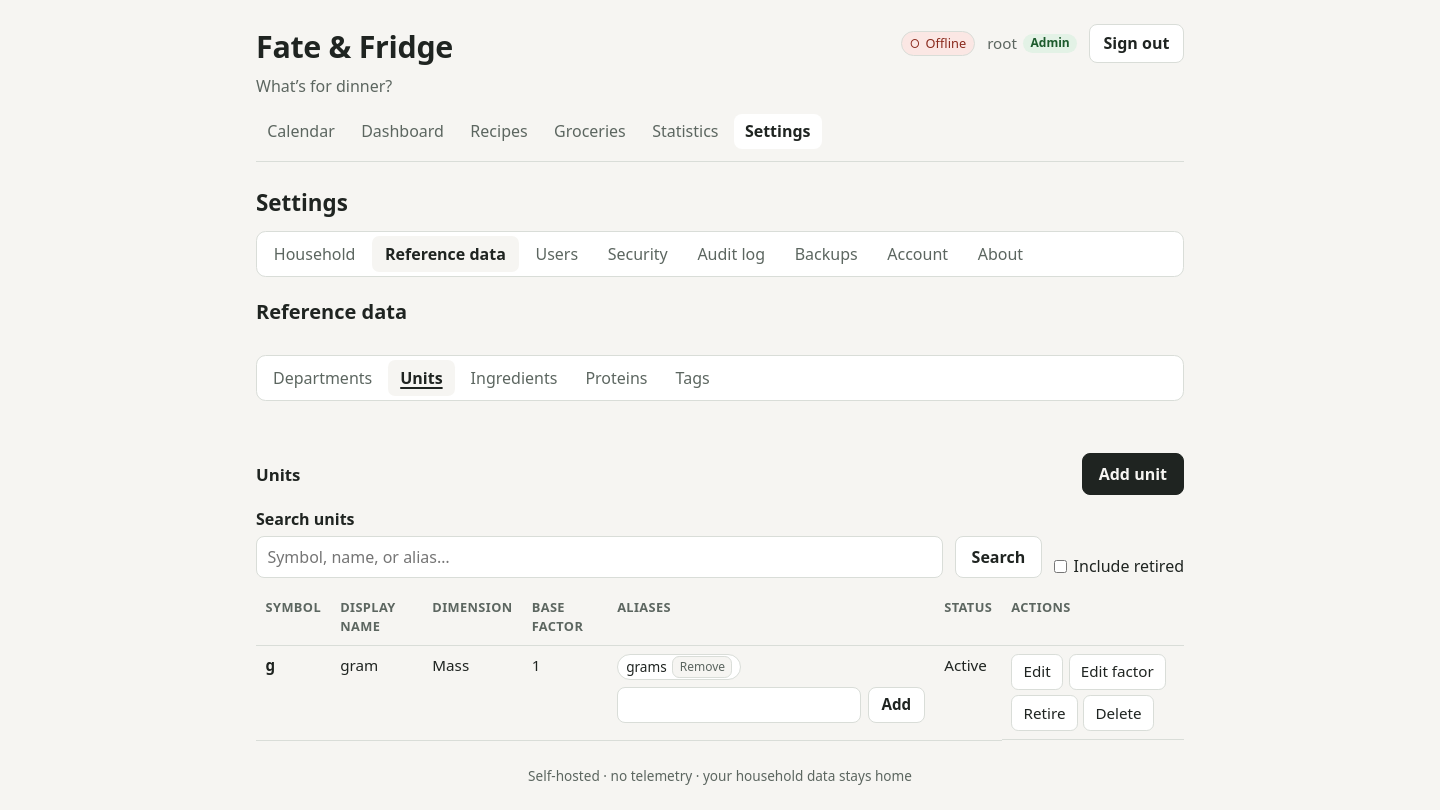
it: units tab › validates the factor locally and surfaces server field errors
The width and height of the screenshot is (1440, 810).
Click the button with aria-label "Edit factor for g". click: (1117, 672)
box: [1068,654,1166,690]
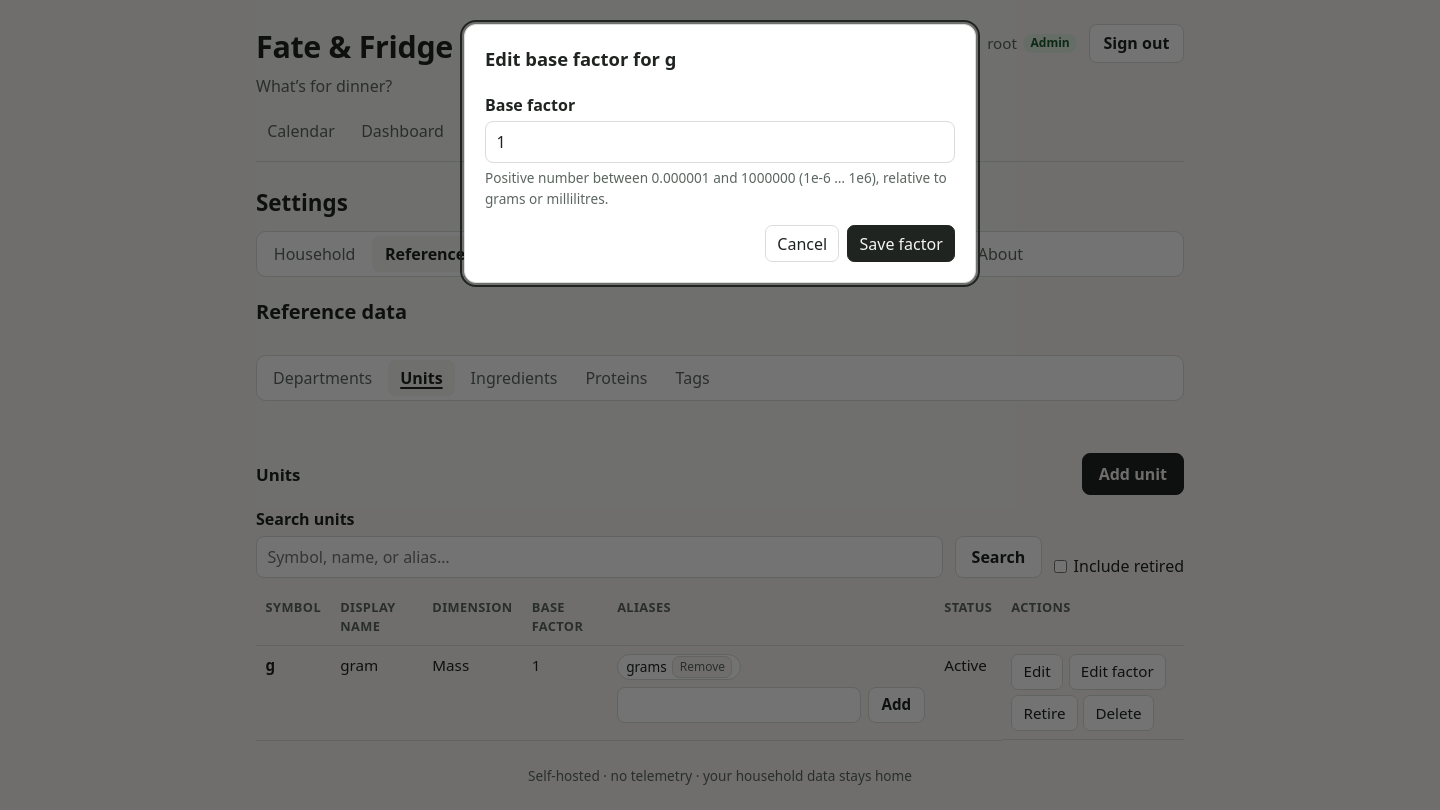
expect the field labelled "Base factor" holds "1": met
Clear the field labelled "Base factor". click: (720, 142)
box: [485,121,955,163]
Click the button "Save factor". click: (901, 244)
box: [847,225,955,262]
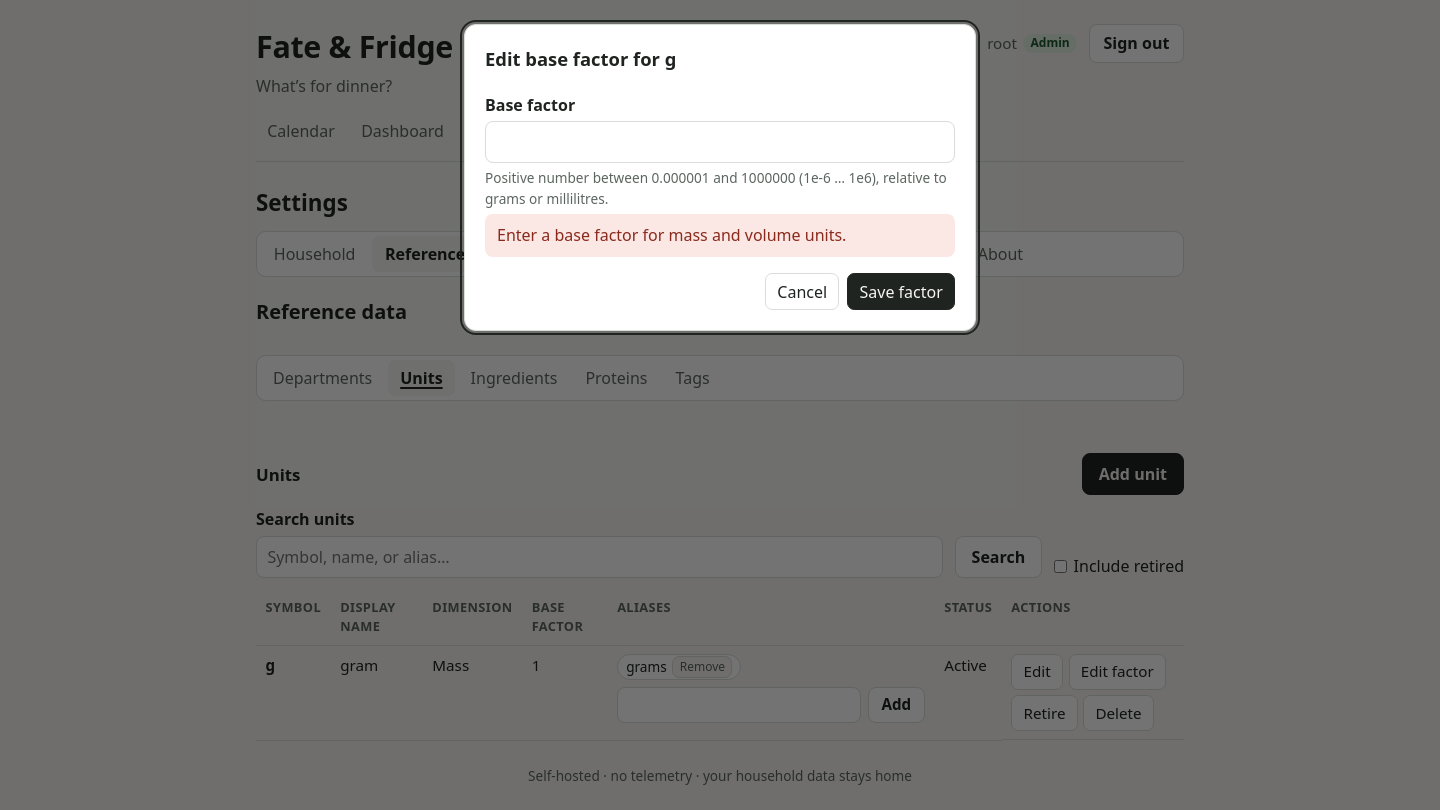
expect the text "Enter a base factor for mass and volume units." is shown: met, box [485,214,955,257]
Type "0" into the field labelled "Base factor". click: (720, 142)
box: [485,121,955,163]
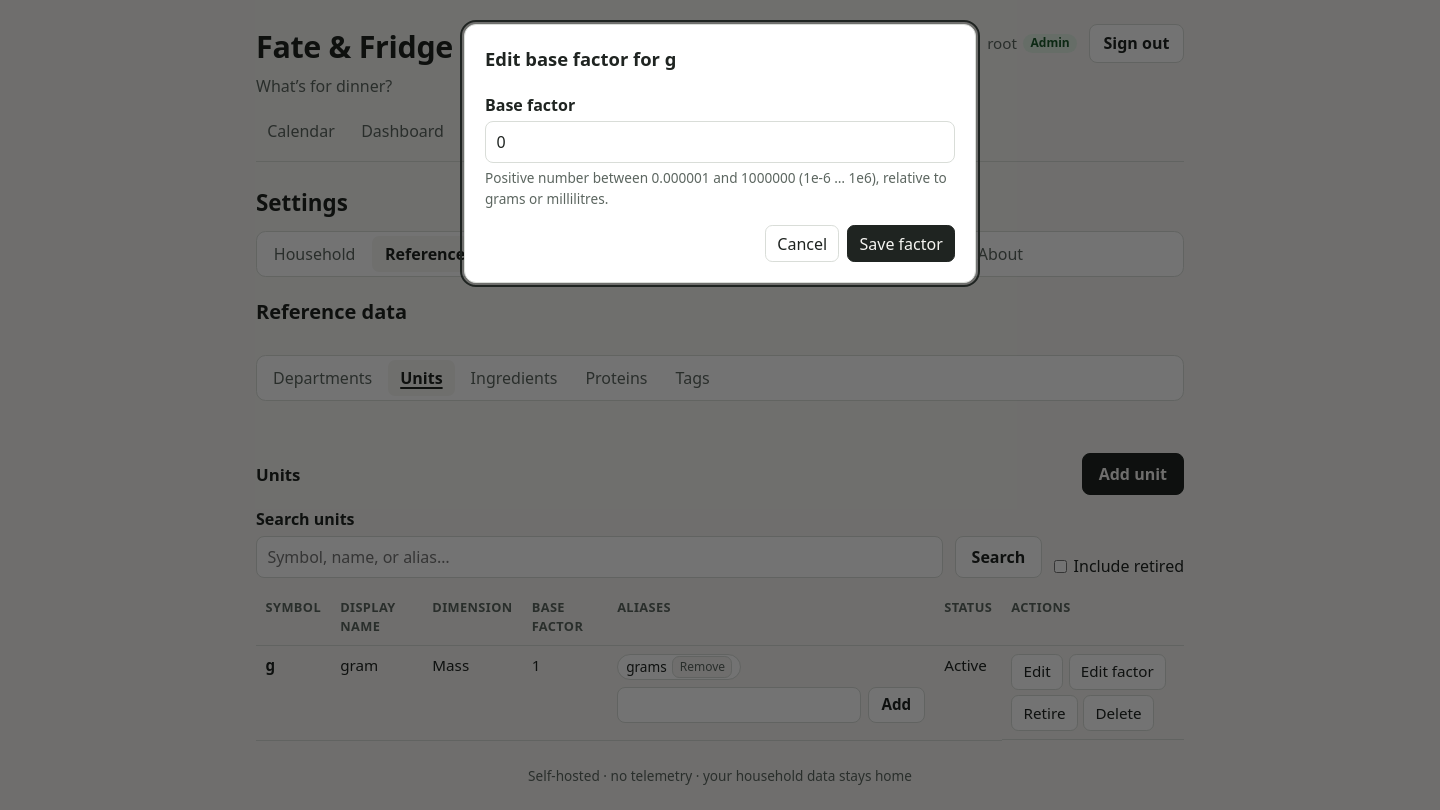
Click the button "Save factor". click: (901, 244)
box: [847,225,955,262]
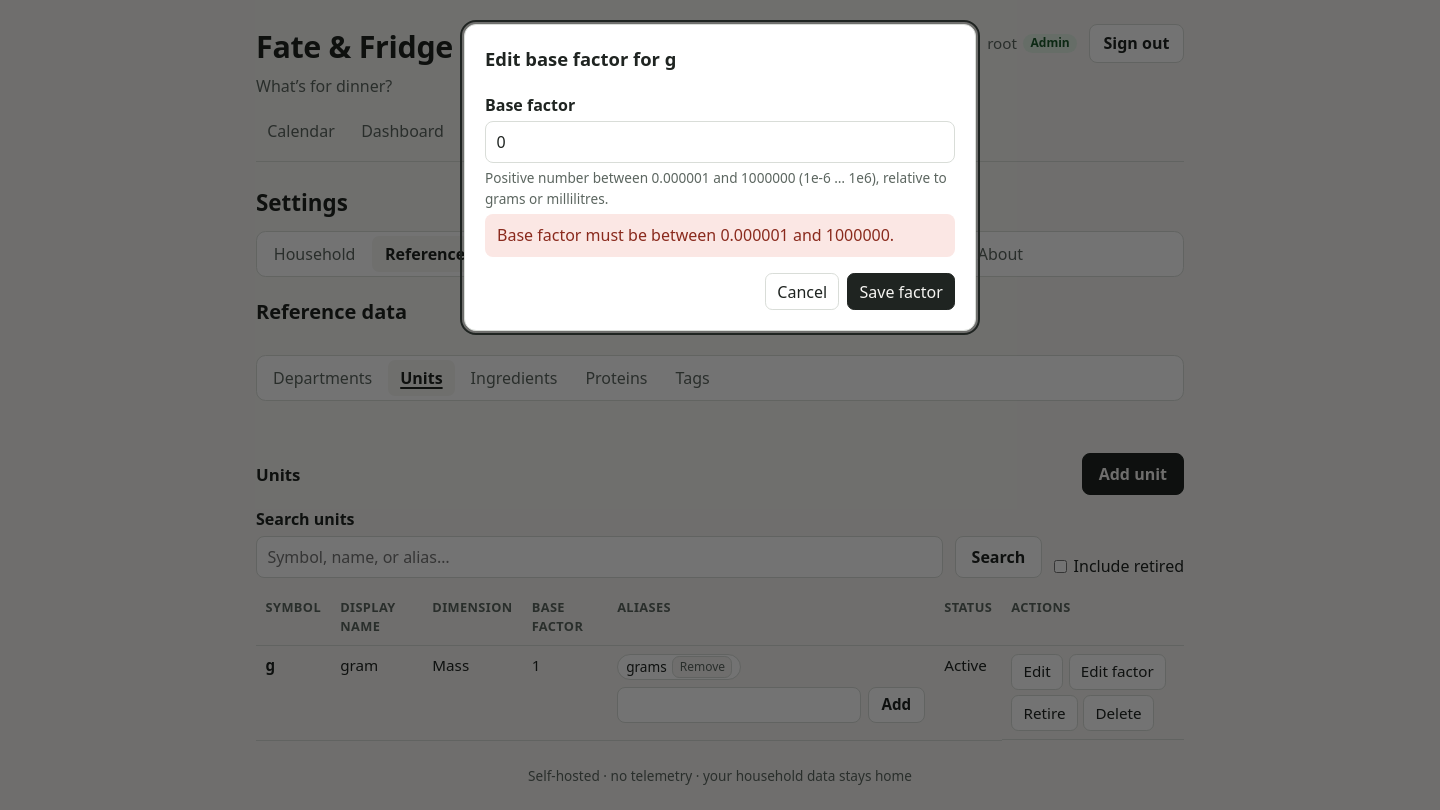
expect the text "Base factor must be between 0.000001 and 1000000." is shown: met, box [485,214,955,257]
Replace the text in the field labelled "Base factor" with "2". click: (720, 142)
box: [485,121,955,163]
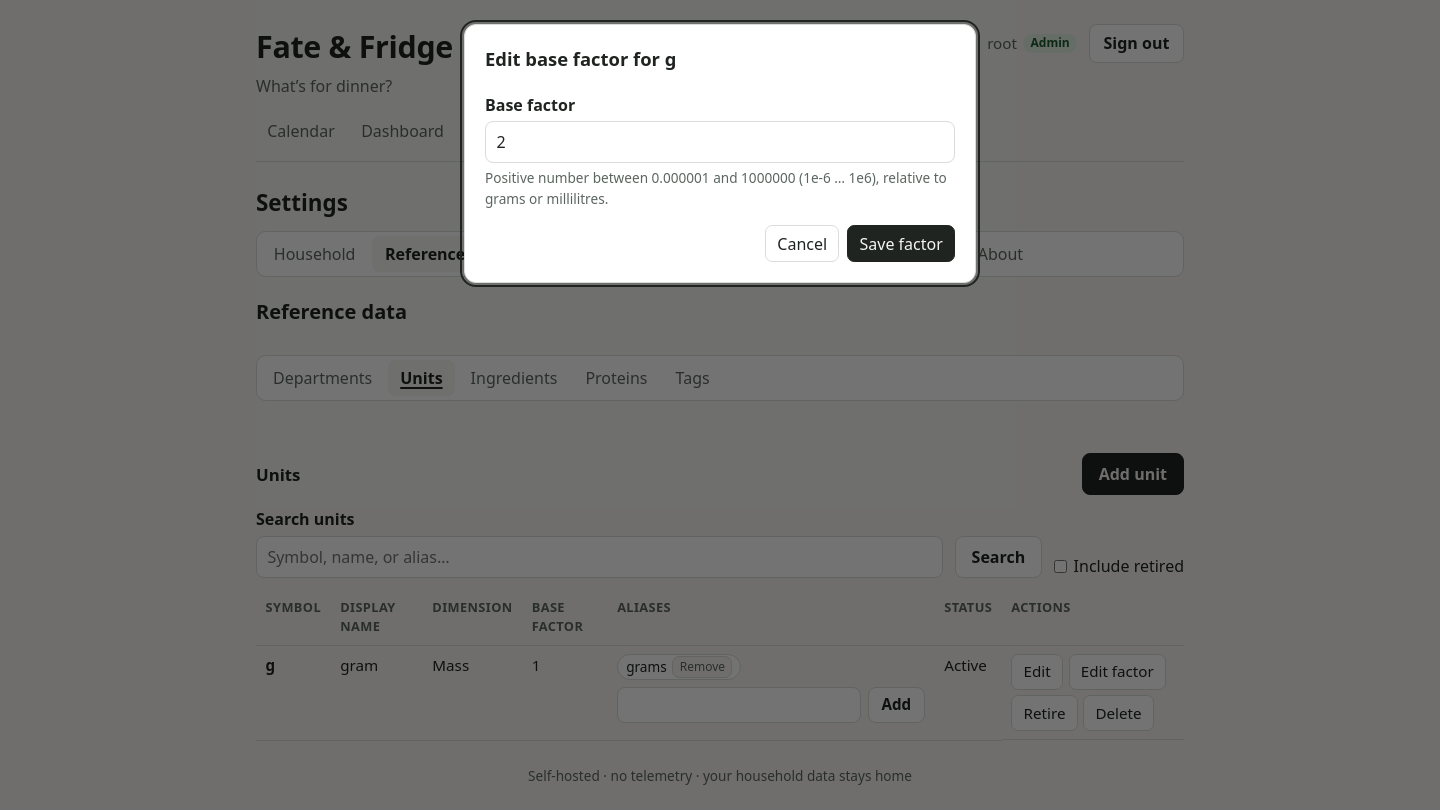
Click the button "Save factor". click: (901, 244)
box: [847,225,955,262]
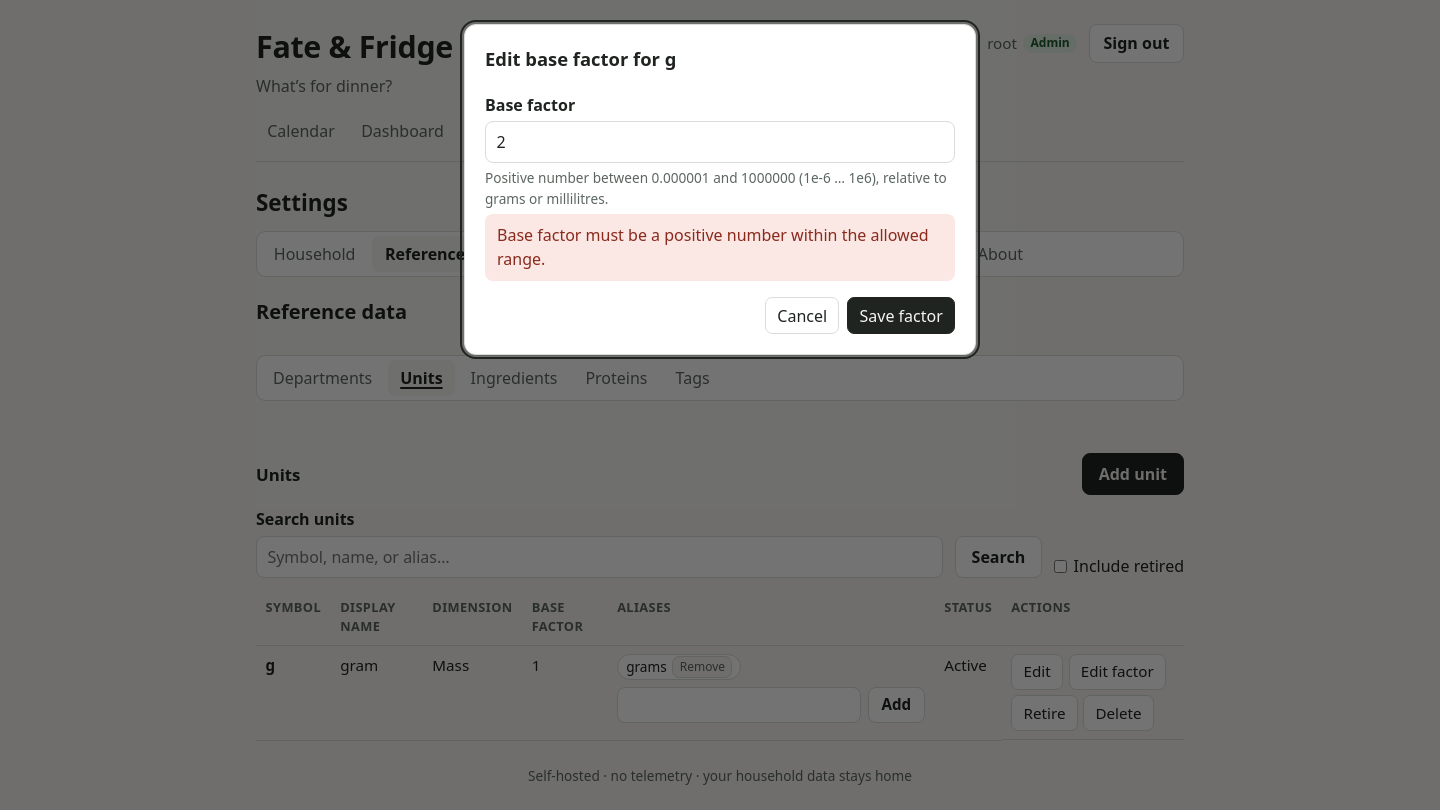
expect the dialog "Edit base factor for g" is shown: met, box [464,24,976,355]
expect the text "Base factor must be a positive number within the allowed range." is shown: met, box [485,214,955,281]
